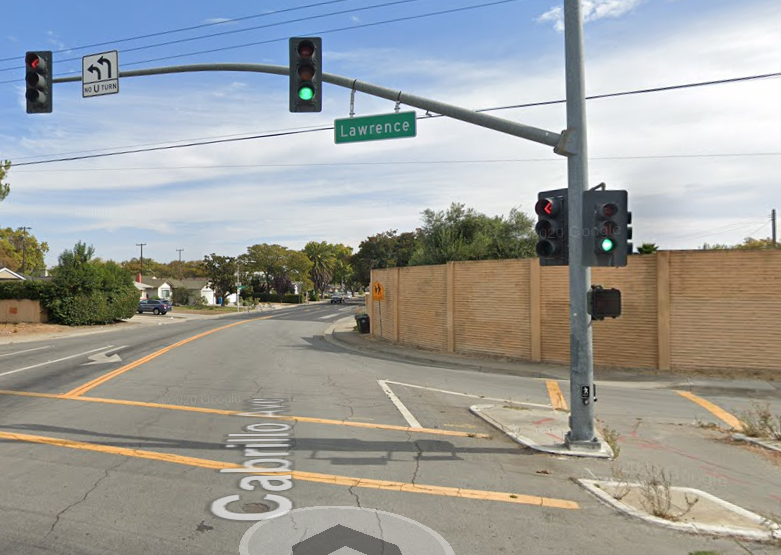green_light: (587, 192, 626, 264), (289, 38, 321, 110)
